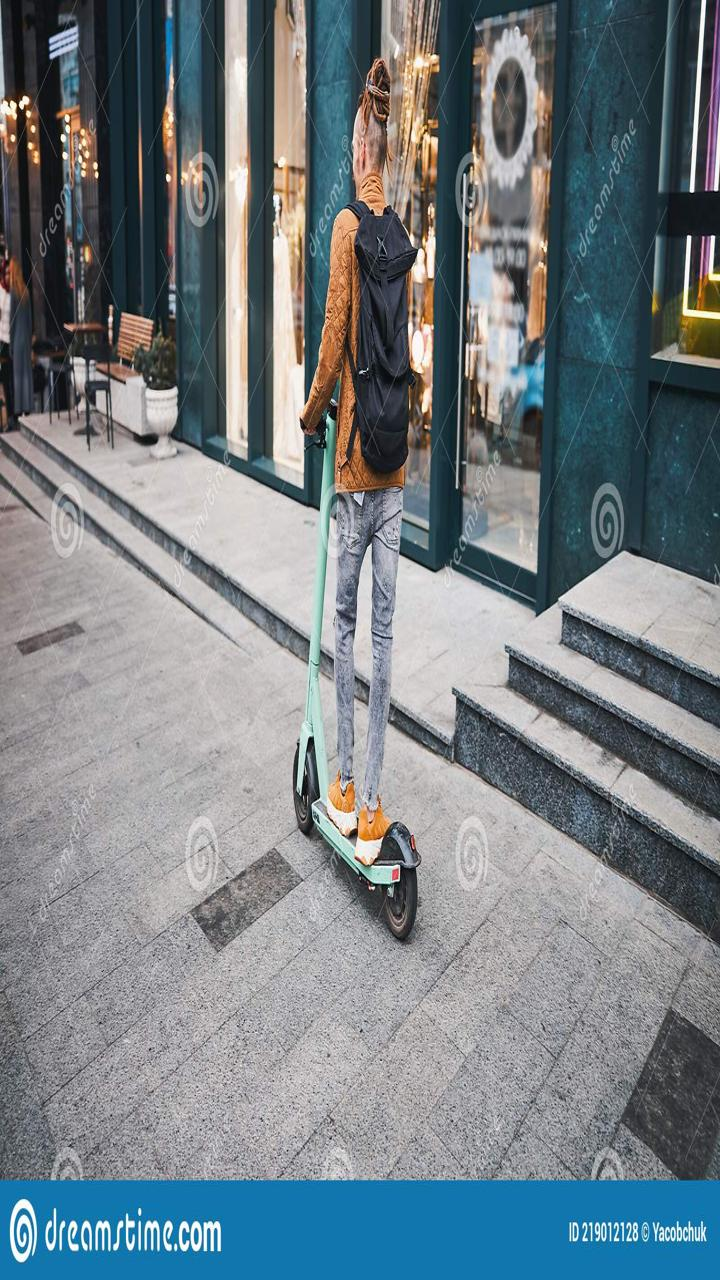pedestrian: (308, 68, 422, 856)
scooter: (284, 379, 446, 947)
